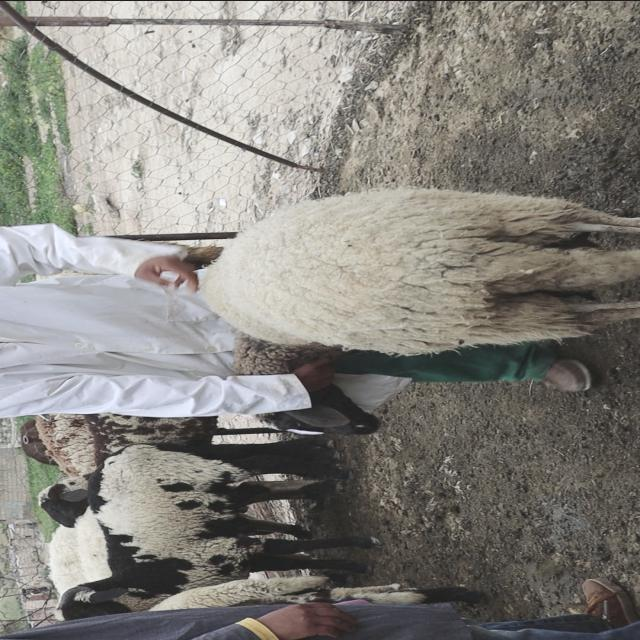Score_5: (201, 187, 639, 374)
